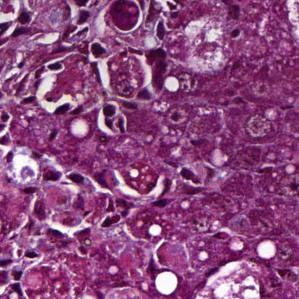ballooning: (193, 259, 265, 299)
